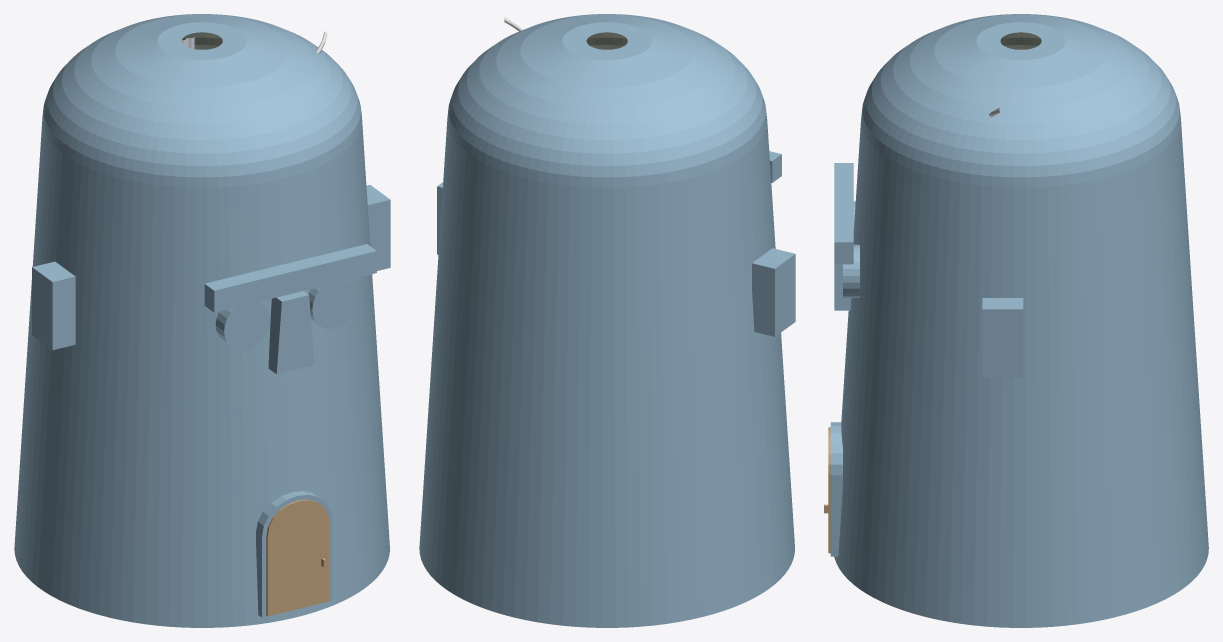
File: squidward-house-layout-v7.glb
The picture shows the model from 3 angles, left to right: view 1: azimuth 30°, elevation 25°; view 2: azimuth 150°, elevation 25°; view 3: azimuth 270°, elevation 25°; orthographic projection.
Parts seen in each view (by area): view 1: shell_cutaway_cover, shell_main, door_panel, shell_eyebrow, shell_ear_L, shell_nose, door_frame, shell_porthole_L, shell_porthole_R, shell_ear_R; view 2: shell_main, shell_cutaway_cover, shell_ear_L; view 3: shell_main, shell_ear_R, shell_cutaway_cover, shell_eyebrow, door_frame, shell_porthole_R.
Boxes of the visible parts, x1,y1,x2,y2 form: shell_cutaway_cover: [69, 47, 281, 627]; shell_main: [14, 14, 389, 620]; door_panel: [266, 499, 329, 616]; shell_eyebrow: [204, 244, 376, 312]; shell_ear_L: [32, 261, 75, 350]; shell_nose: [268, 291, 314, 374]; door_frame: [256, 491, 332, 617]; shell_porthole_L: [215, 301, 270, 350]; shell_porthole_R: [308, 280, 358, 328]; shell_ear_R: [366, 184, 390, 270]; shell_main: [419, 14, 788, 627]; shell_cutaway_cover: [619, 21, 794, 568]; shell_ear_L: [752, 248, 795, 336]; shell_main: [834, 14, 1208, 627]; shell_ear_R: [982, 298, 1023, 377]; shell_cutaway_cover: [863, 15, 1015, 102]; shell_eyebrow: [834, 163, 853, 264]; door_frame: [830, 422, 842, 556]; shell_porthole_R: [843, 244, 859, 297].
Size of the model in its own units: 3.22 by 4.62 by 3.17.
